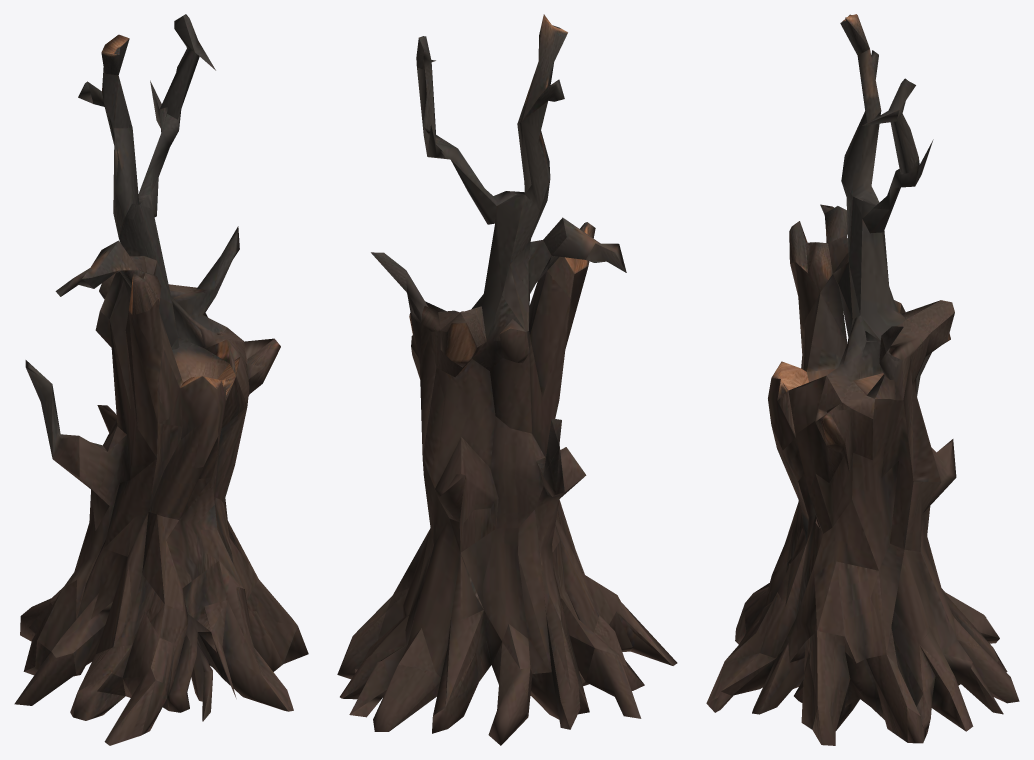
The model's file is deadTree.glb.
3 renders of one model, left to right at view 1: azimuth 30°, elevation 25°; view 2: azimuth 150°, elevation 25°; view 3: azimuth 270°, elevation 25°, orthographic. The views are drawn at different scales.
Visible parts, largest first — view 1: environment-deadTree, environment-deadTree-background; view 2: environment-deadTree, environment-deadTree-background; view 3: environment-deadTree, environment-deadTree-background.
Boxes of the visible parts, x1=… form: environment-deadTree: x1=14, y1=14, x2=308, y2=745; environment-deadTree-background: x1=76, y1=106, x2=297, y2=740; environment-deadTree: x1=337, y1=14, x2=677, y2=745; environment-deadTree-background: x1=355, y1=67, x2=672, y2=681; environment-deadTree: x1=706, y1=14, x2=1019, y2=745; environment-deadTree-background: x1=706, y1=111, x2=960, y2=730.
Size of the model in its own units: 28 by 64 by 28.
Materials: 1 (1 with a texture image).
